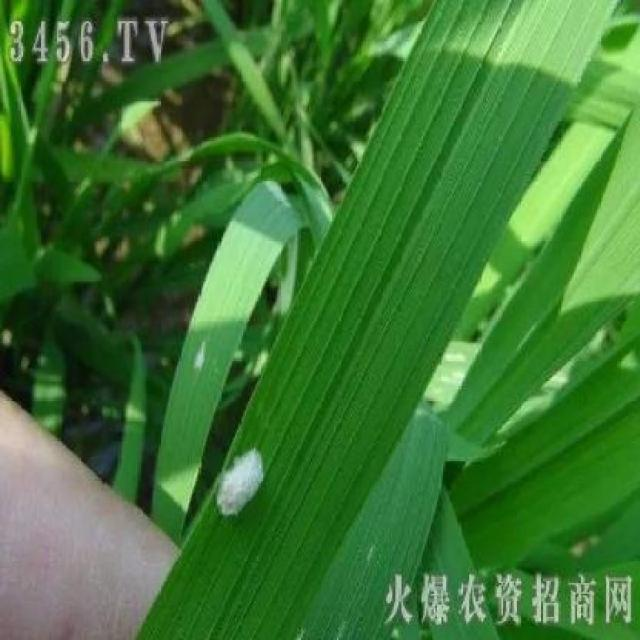whorl-maggot: (208, 430, 282, 535)
